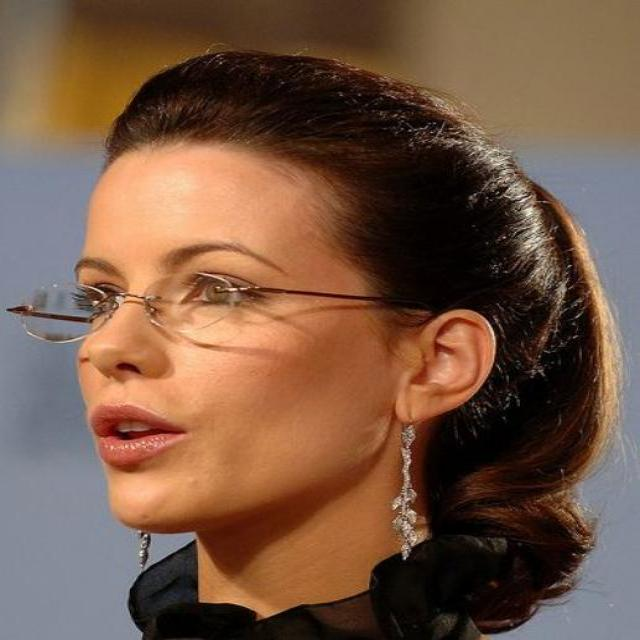glasses: (6, 272, 299, 346)
